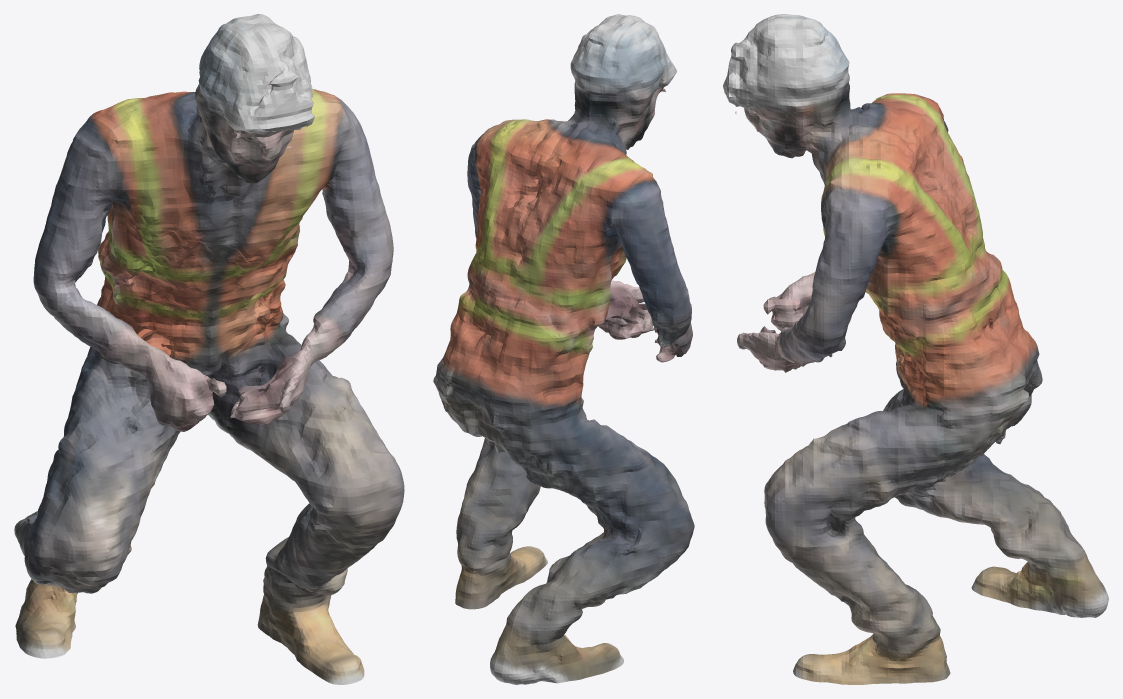
File: standup_7.glb
3 views of the same model, side by side, from view 1: azimuth 30°, elevation 25°; view 2: azimuth 150°, elevation 25°; view 3: azimuth 270°, elevation 25° (orthographic). The views are drawn at different scales.
Parts seen in each view (by area): view 1: world; view 2: world; view 3: world.
Boxes of the visible parts, box(x1,y1,x2,y2) form: world: box(14, 14, 404, 684); world: box(433, 14, 694, 684); world: box(723, 14, 1108, 684).
Size of the model in its own units: 0.7136 by 1.5 by 0.8591.
